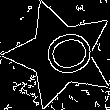O_W: (28, 26, 93, 83)
